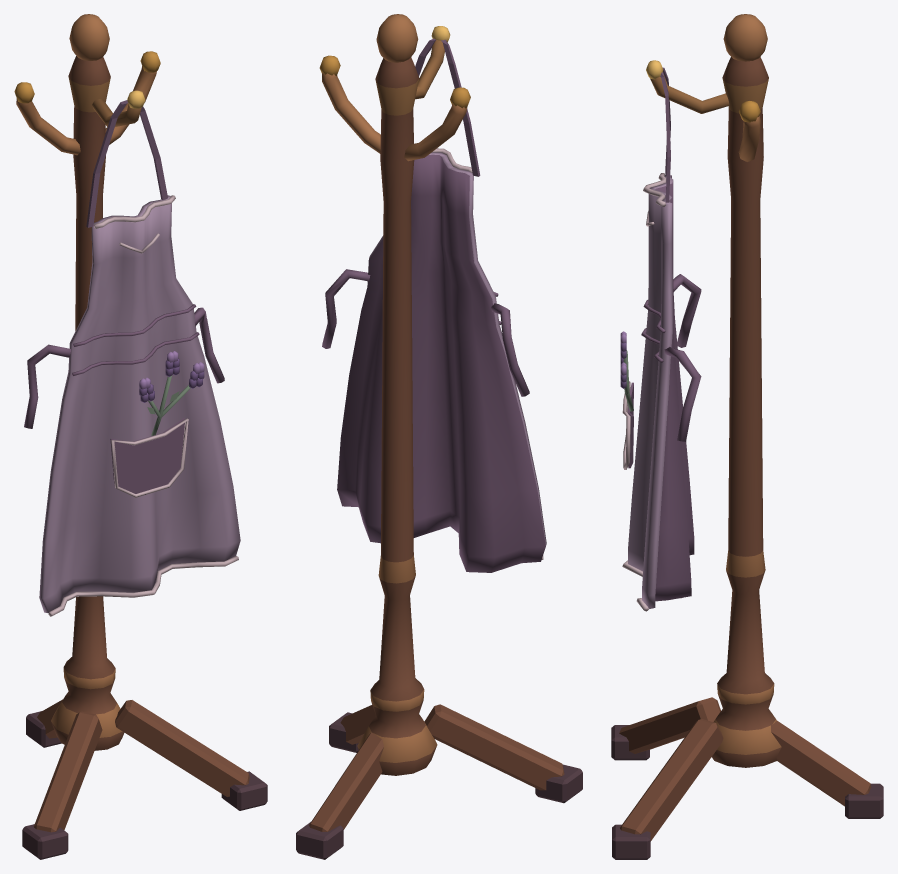
The model's file is apron.glb.
3 views of the same model, side by side, from view 1: azimuth 30°, elevation 25°; view 2: azimuth 150°, elevation 25°; view 3: azimuth 270°, elevation 25° (orthographic). The views are drawn at different scales.
Parts seen in each view (by area): view 1: apron; view 2: apron; view 3: apron.
Part boxes in pixels (left/top/right/bottom): apron: left=14, top=14, right=267, bottom=859; apron: left=296, top=14, right=582, bottom=859; apron: left=611, top=14, right=883, bottom=859.
Size of the model in its own units: 0.5 by 1.6 by 0.5.
